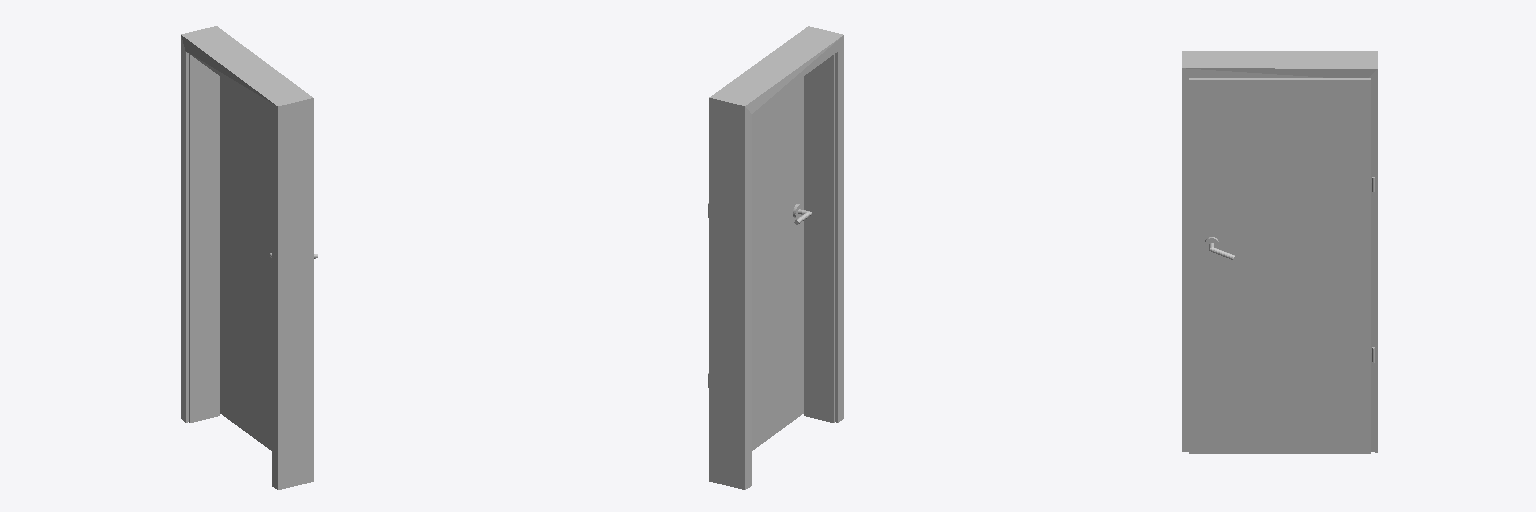
File: door70.obj
3 views of the same model, side by side, from view 1: azimuth 30°, elevation 25°; view 2: azimuth 150°, elevation 25°; view 3: azimuth 270°, elevation 25° (orthographic).
Parts seen in each view (by area): view 1: Cylinder.005, Cylinder.001; view 2: Cylinder.005, Cylinder.001; view 3: Cylinder.001, Cylinder.005.
Part boxes in pixels (x1,y1,x2,y2): Cylinder.005: (181, 26, 313, 489); Cylinder.001: (220, 77, 271, 450); Cylinder.005: (708, 26, 843, 489); Cylinder.001: (708, 77, 803, 450); Cylinder.001: (1189, 78, 1374, 453); Cylinder.005: (1182, 51, 1377, 452).
Size of the model in its own units: 0.3039 by 2.05 by 0.95.